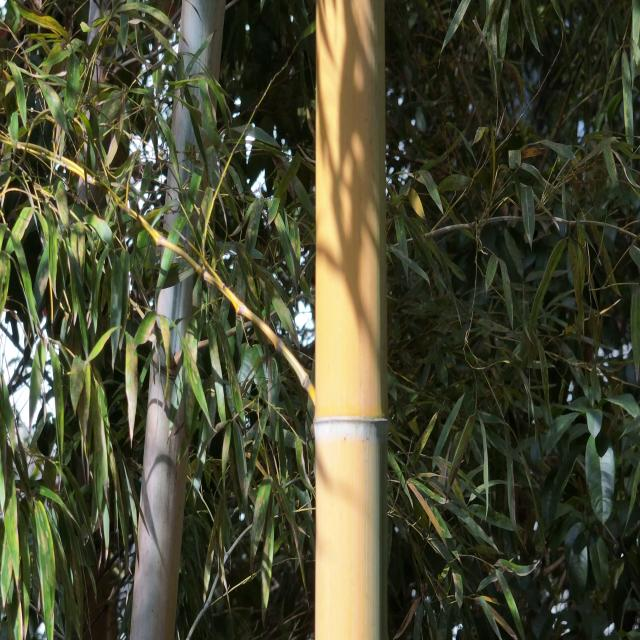Bamboo-shoots: (316, 0, 387, 640)
